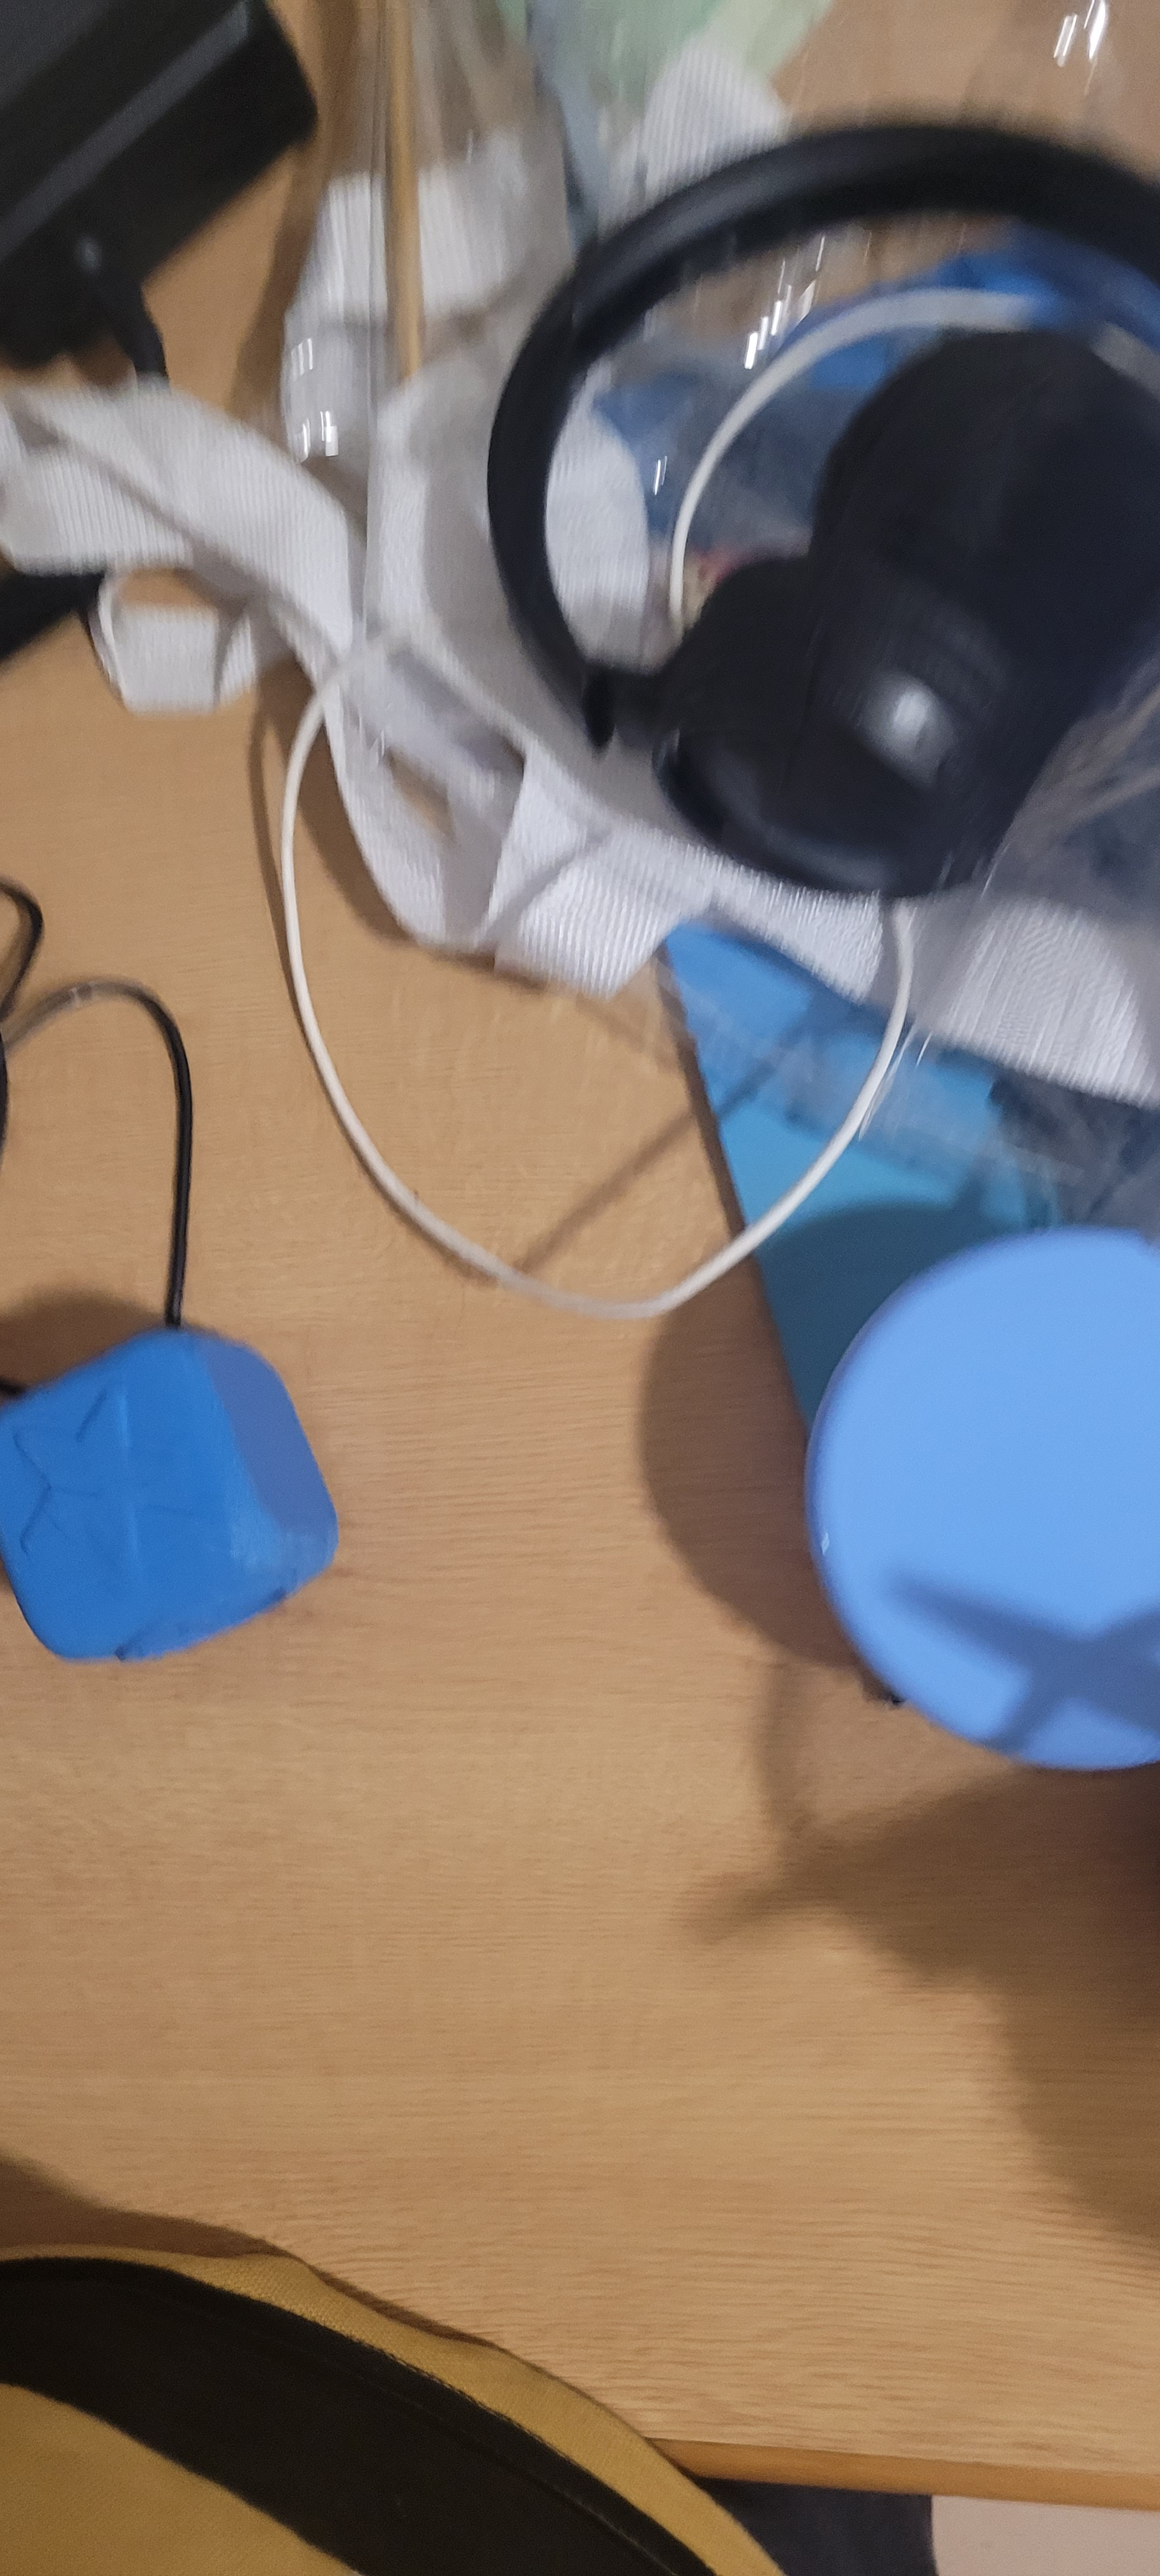Star: (0, 1360, 200, 1607)
